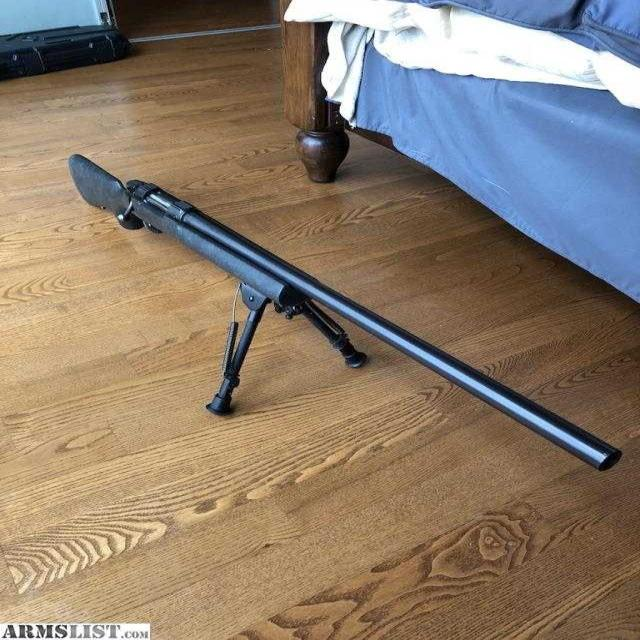heavyweapon: (40, 148, 621, 516)
